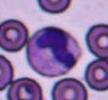N: (26, 26, 81, 78)
